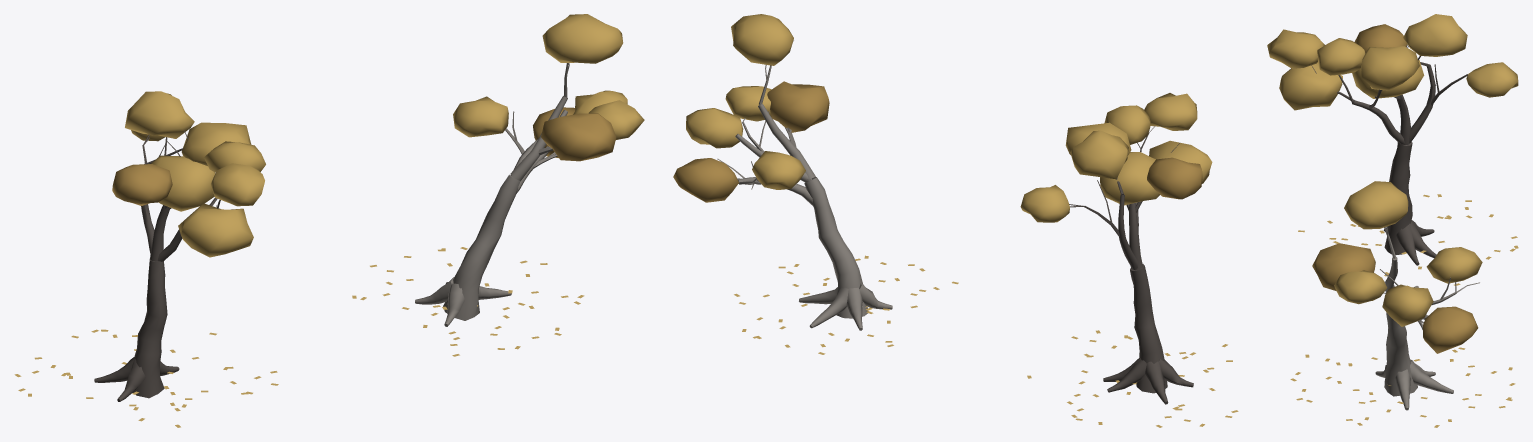
The model's file is golden_tree.glb.
The picture shows the model from 3 angles, left to right: view 1: azimuth 30°, elevation 25°; view 2: azimuth 150°, elevation 25°; view 3: azimuth 270°, elevation 25°; orthographic projection. The views are drawn at different scales.
Visible parts, largest first — view 1: ttrunk.001, leaf0.001, leaf7, ttrunk, leaf1.001, leaf0, leaf6, leaf5, leaf2, leaf4.001, leaf3, leaf1 (+5 smaller); view 2: ttrunk.001, leaf0.001, leaf1.001, ttrunk, leaf0, leaf5.001, leaf6, leaf5, leaf3.001, leaf2, leaf4.001, leaf4 (+11 smaller); view 3: leaf0.001, leaf7, leaf3, leaf0, leaf5.001, leaf1.001, leaf2, leaf3.001, ttrunk.001, leaf4.001, ttrunk, leaf1 (+14 smaller).
Part boxes in pixels (<box>): ttrunk.001: <box>443,174,520,320</box>; leaf0.001: <box>542,14,623,63</box>; leaf7: <box>178,203,253,257</box>; ttrunk: <box>133,259,167,398</box>; leaf1.001: <box>541,113,616,161</box>; leaf0: <box>125,91,194,138</box>; leaf6: <box>151,155,215,211</box>; leaf5: <box>112,164,172,205</box>; leaf2: <box>211,163,264,206</box>; leaf4.001: <box>453,96,508,137</box>; leaf3: <box>181,122,251,165</box>; leaf1: <box>204,141,265,172</box>; ttrunk.001: <box>804,177,867,318</box>; leaf0.001: <box>731,14,793,65</box>; leaf1.001: <box>767,81,829,132</box>; ttrunk: <box>1130,264,1167,393</box>; leaf0: <box>1070,130,1128,179</box>; leaf5.001: <box>673,158,738,202</box>; leaf6: <box>1100,152,1159,205</box>; leaf5: <box>1147,157,1202,199</box>; leaf3.001: <box>686,108,743,148</box>; leaf2: <box>1144,93,1197,130</box>; leaf4.001: <box>752,151,805,189</box>; leaf4: <box>1020,185,1069,222</box>; leaf0.001: <box>1344,181,1408,229</box>; leaf7: <box>1279,62,1342,110</box>; leaf3: <box>1361,46,1419,90</box>; leaf0: <box>1403,14,1467,56</box>; leaf5.001: <box>1423,306,1478,353</box>; leaf1.001: <box>1312,243,1375,290</box>; leaf2: <box>1267,29,1324,68</box>; leaf3.001: <box>1382,284,1433,326</box>; ttrunk.001: <box>1384,312,1417,396</box>; leaf4.001: <box>1426,247,1482,283</box>; ttrunk: <box>1384,142,1412,254</box>; leaf1: <box>1317,38,1365,75</box>.
Size of the model in its own units: 16.83 by 7.54 by 6.84.
